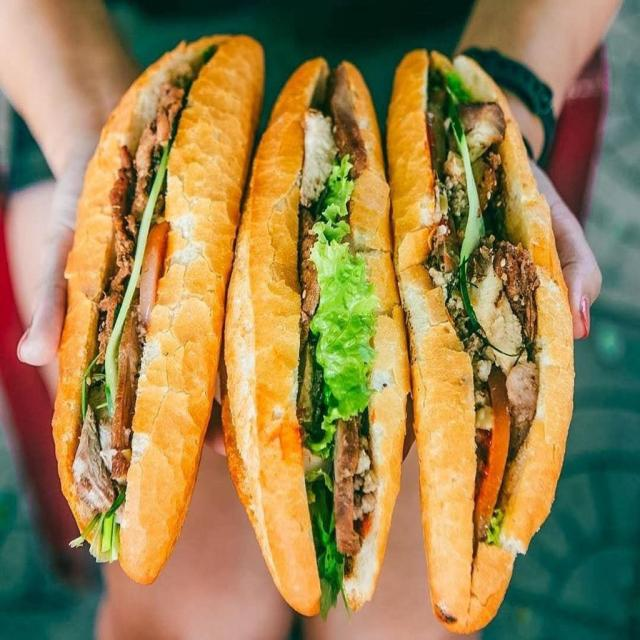banh mi: (52, 35, 583, 639)
